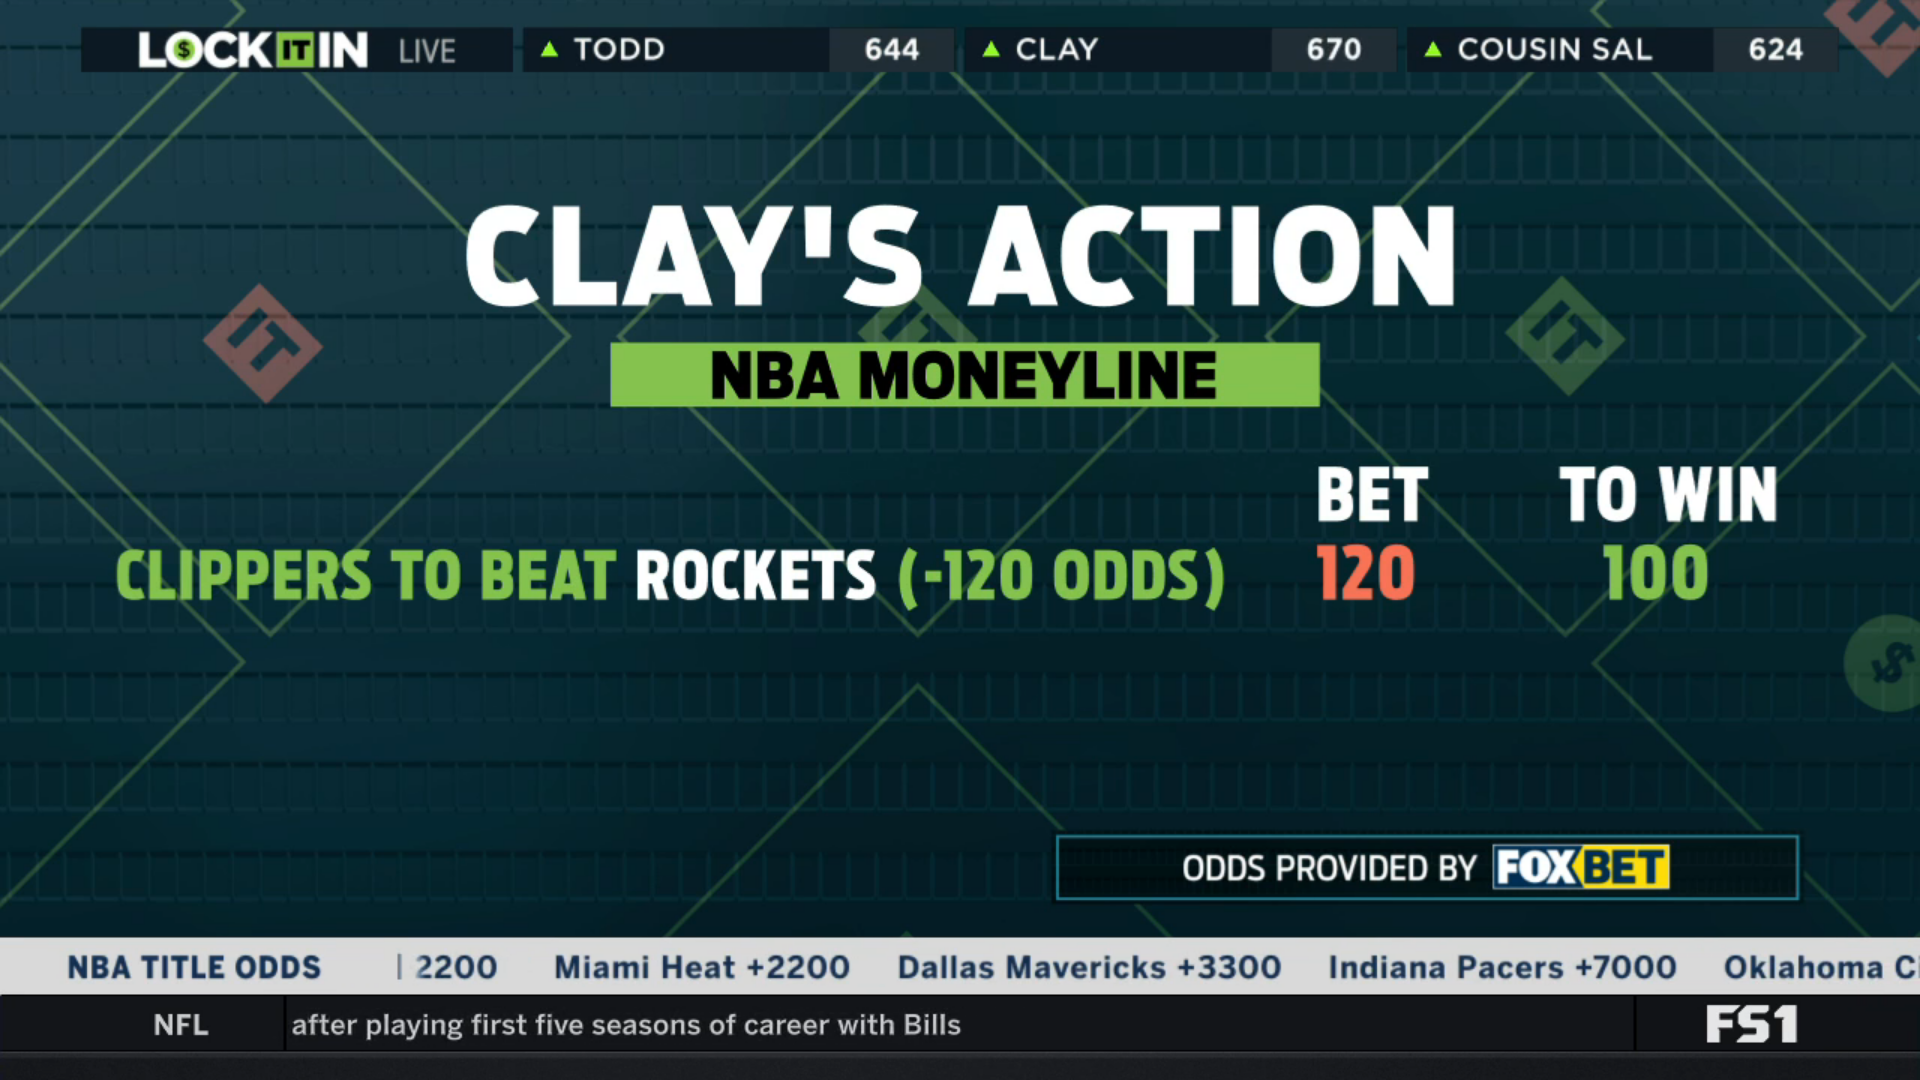Bet: (105, 533, 1237, 626)
Bet Amount: (1304, 448, 1439, 613)
Subtitle: (597, 331, 1329, 415)
Title: (458, 189, 1473, 320)
To Win: (1544, 444, 1791, 616)
Top Bar: (69, 17, 1845, 79)
